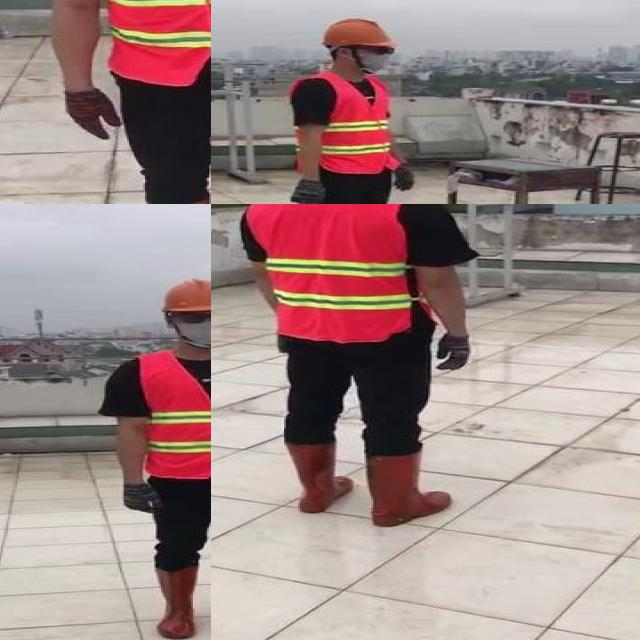boots: (357, 451, 455, 528), (279, 440, 357, 515), (152, 567, 198, 639)
face_mask: (352, 44, 397, 74), (176, 307, 211, 345)
glasses: (173, 306, 211, 326), (363, 44, 397, 58)
hand_glove: (66, 88, 124, 139), (437, 334, 476, 374), (120, 484, 163, 517), (293, 179, 325, 204), (392, 166, 414, 193)
head_helmet: (318, 17, 400, 47), (157, 277, 211, 314)
person: (236, 204, 492, 530), (99, 275, 211, 640), (43, 0, 211, 204), (282, 13, 424, 204)
vest: (246, 204, 415, 343), (292, 73, 406, 170), (77, 0, 211, 82), (138, 347, 211, 480)
